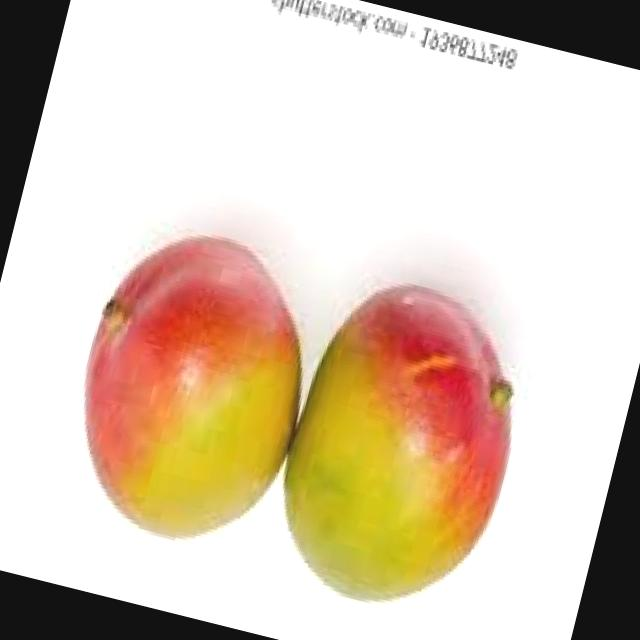Mango: (259, 262, 547, 630), (50, 211, 338, 563)
